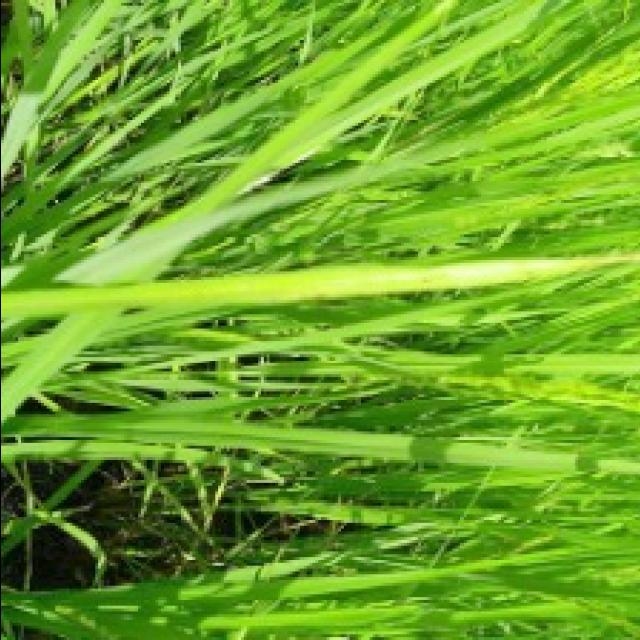Unhealthy: (407, 275, 436, 285)
